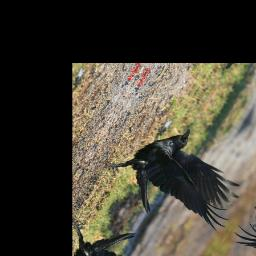Crow: (92, 100, 256, 252)
